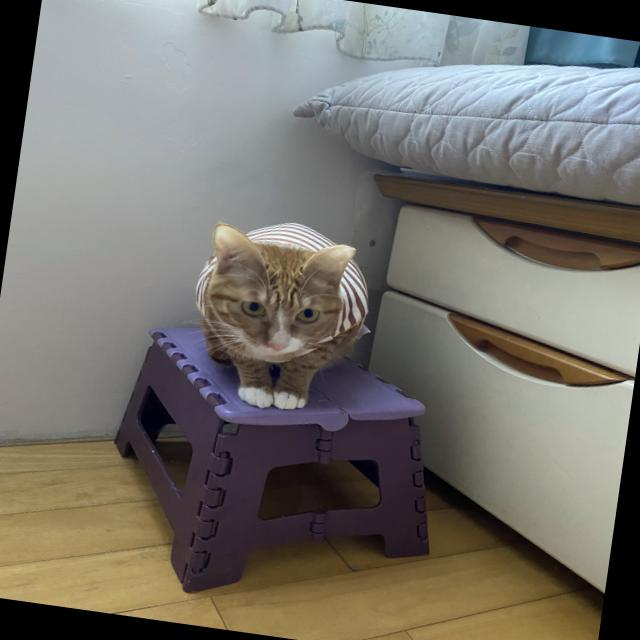cat3: (178, 203, 386, 423)
